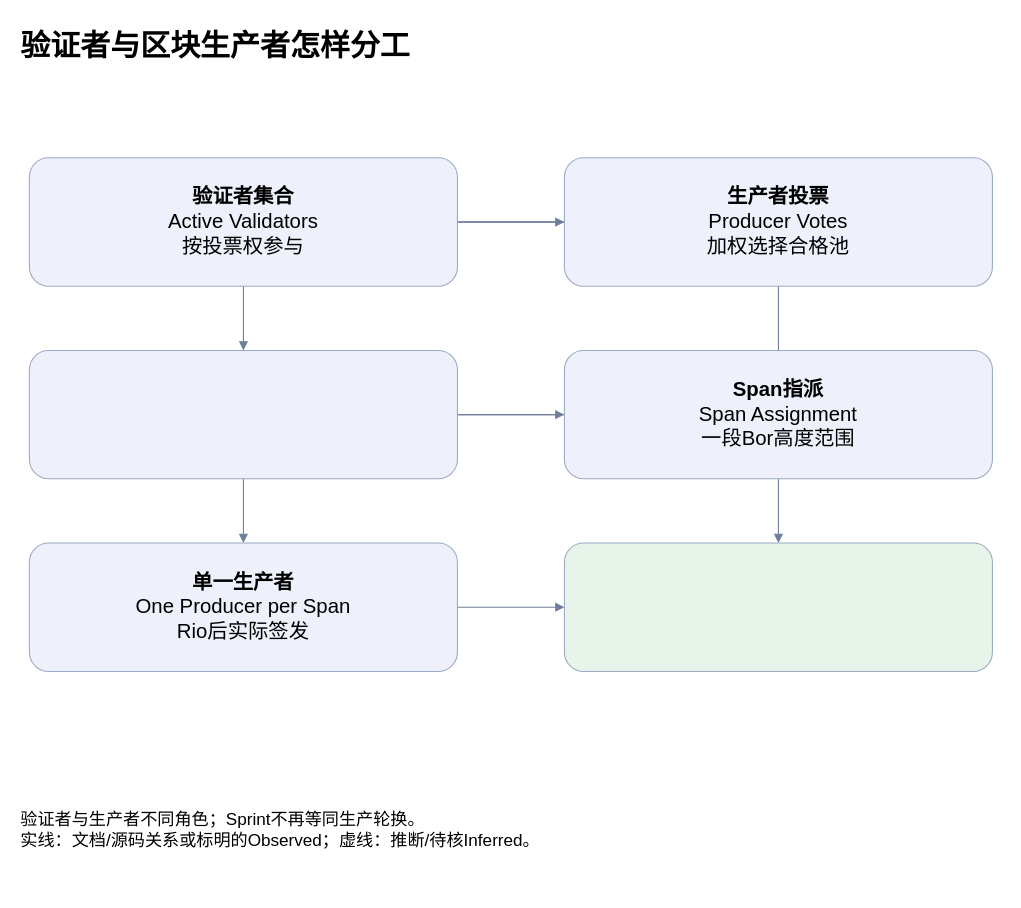
This 1021x908 diagram has some shape labels left out. Each missing label, with the centre of its shape:
"生产者池 Eligible Producer Pool 不等于全部验证者" goes at pixel 242 414.
"验证与恢复 Validation / Rotation Heimdall确认与故障切换" goes at pixel 777 606.
